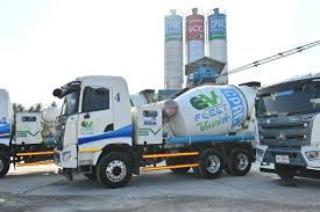cement_mixer_truck: (53, 78, 258, 181), (256, 77, 320, 180), (0, 75, 61, 179)
